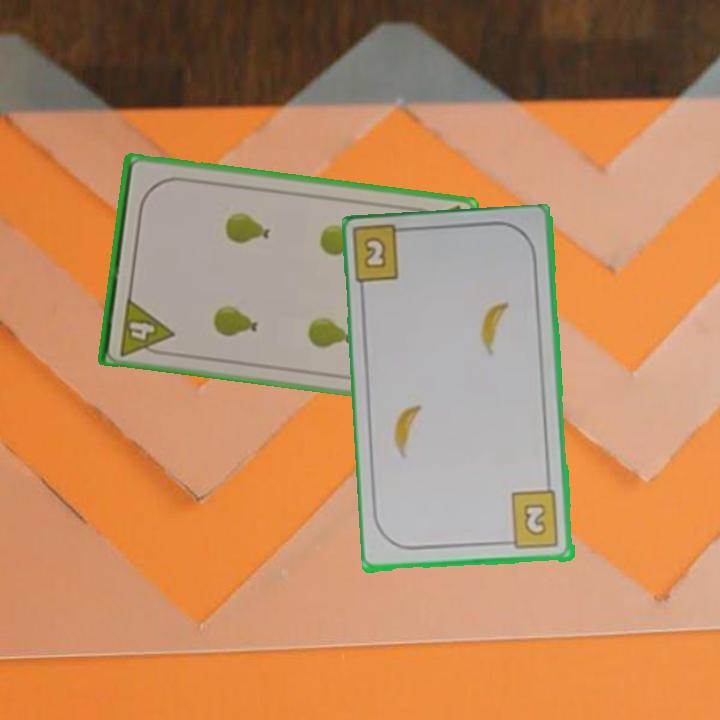2b: (352, 225, 416, 289), (501, 488, 562, 552)
4p: (116, 293, 176, 359)
